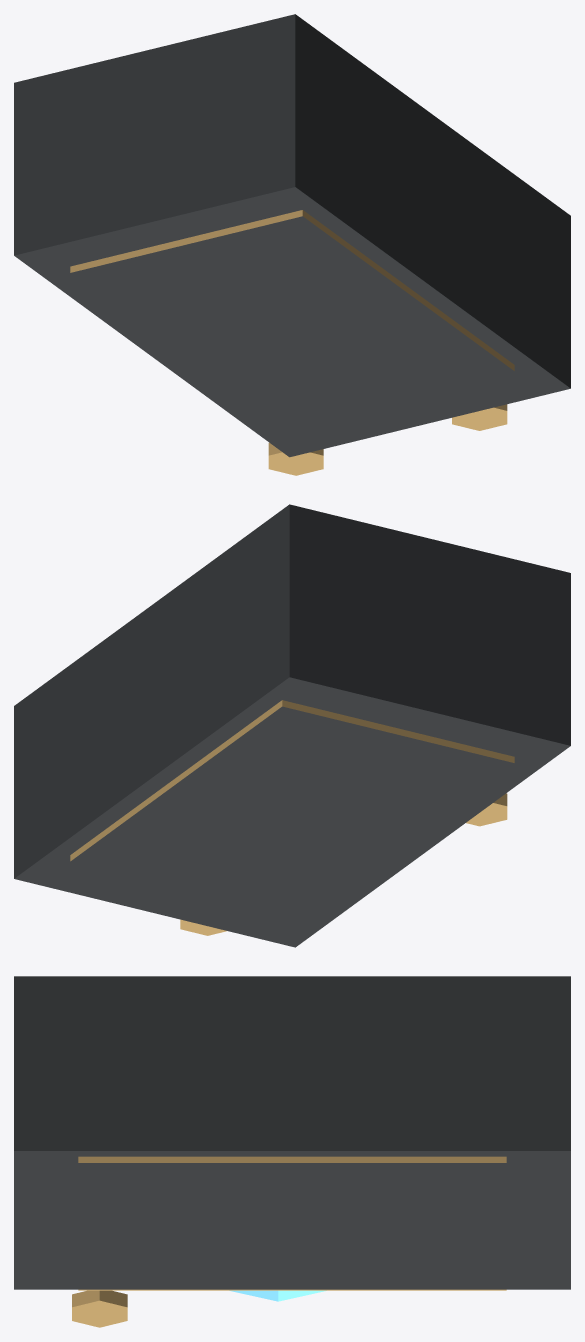
File: SM_Gnome_AetherTek_PowerNexus_FuelCell_01_LOD3.glb
The picture shows the model from 3 angles, top to bottom: view 1: azimuth 30°, elevation 25°; view 2: azimuth 150°, elevation 25°; view 3: azimuth 270°, elevation 25°; orthographic projection.
Parts seen in each view (by area): view 1: Silhouette_DarkIron_Block, Silhouette_Brass_FrontPlate, Silhouette_Socket_-15_65, Silhouette_Socket_15_65; view 2: Silhouette_DarkIron_Block, Silhouette_Brass_FrontPlate, Silhouette_Socket_-15_65; view 3: Silhouette_DarkIron_Block, Silhouette_Brass_FrontPlate, Silhouette_Socket_15_65, Silhouette_Refractor_LowLens.
Boxes of the visible parts, box(x1,y1,x2,y2) form: Silhouette_DarkIron_Block: box(14, 14, 570, 457); Silhouette_Brass_FrontPlate: box(70, 210, 514, 370); Silhouette_Socket_-15_65: box(268, 442, 323, 475); Silhouette_Socket_15_65: box(452, 404, 507, 430); Silhouette_DarkIron_Block: box(14, 504, 570, 947); Silhouette_Brass_FrontPlate: box(70, 700, 514, 861); Silhouette_Socket_-15_65: box(466, 793, 507, 826); Silhouette_DarkIron_Block: box(14, 976, 570, 1289); Silhouette_Brass_FrontPlate: box(78, 1156, 506, 1290); Silhouette_Socket_15_65: box(72, 1290, 127, 1327); Silhouette_Refractor_LowLens: box(229, 1290, 326, 1301).
Size of the model in its own units: 46 by 34.5 by 78.
